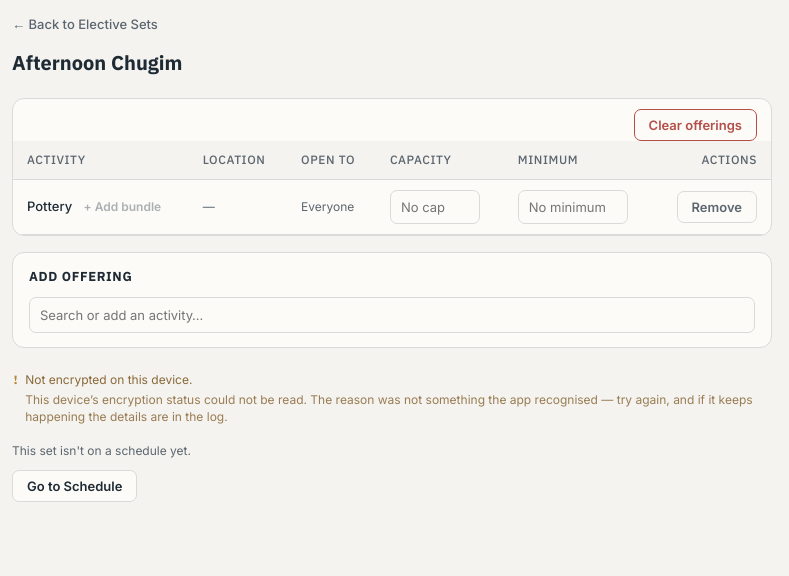
Test case: ElectiveSetDetail — offerings table › refuses a minimum of 0 and says why, without writing it
Expected: the text "Pottery" is shown, [27, 198, 72, 214]
Step 1. Type "0" into the field named "Minimum to run Pottery" → (573, 207), box [518, 190, 628, 224]
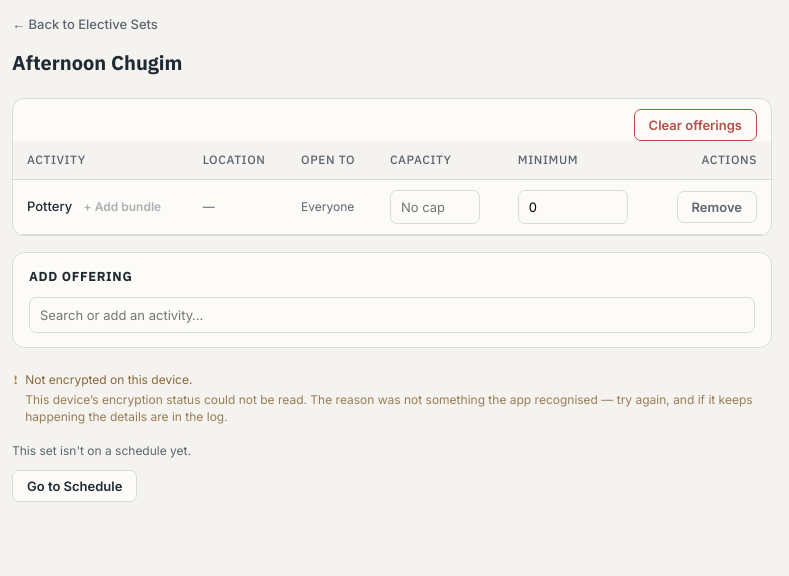
Step 2. Leave the field named "Minimum to run Pottery", box [518, 190, 628, 224]
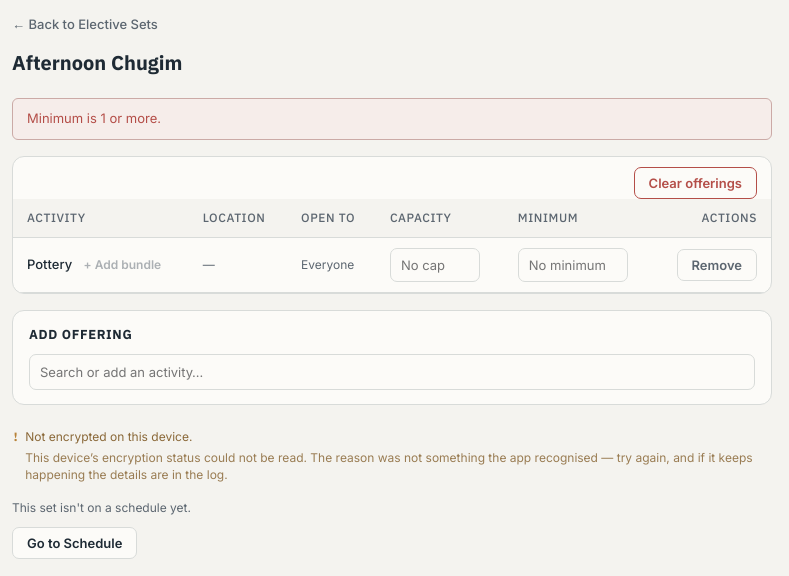
Expected: the text "Minimum is 1 or more." is shown, [12, 98, 772, 140]
